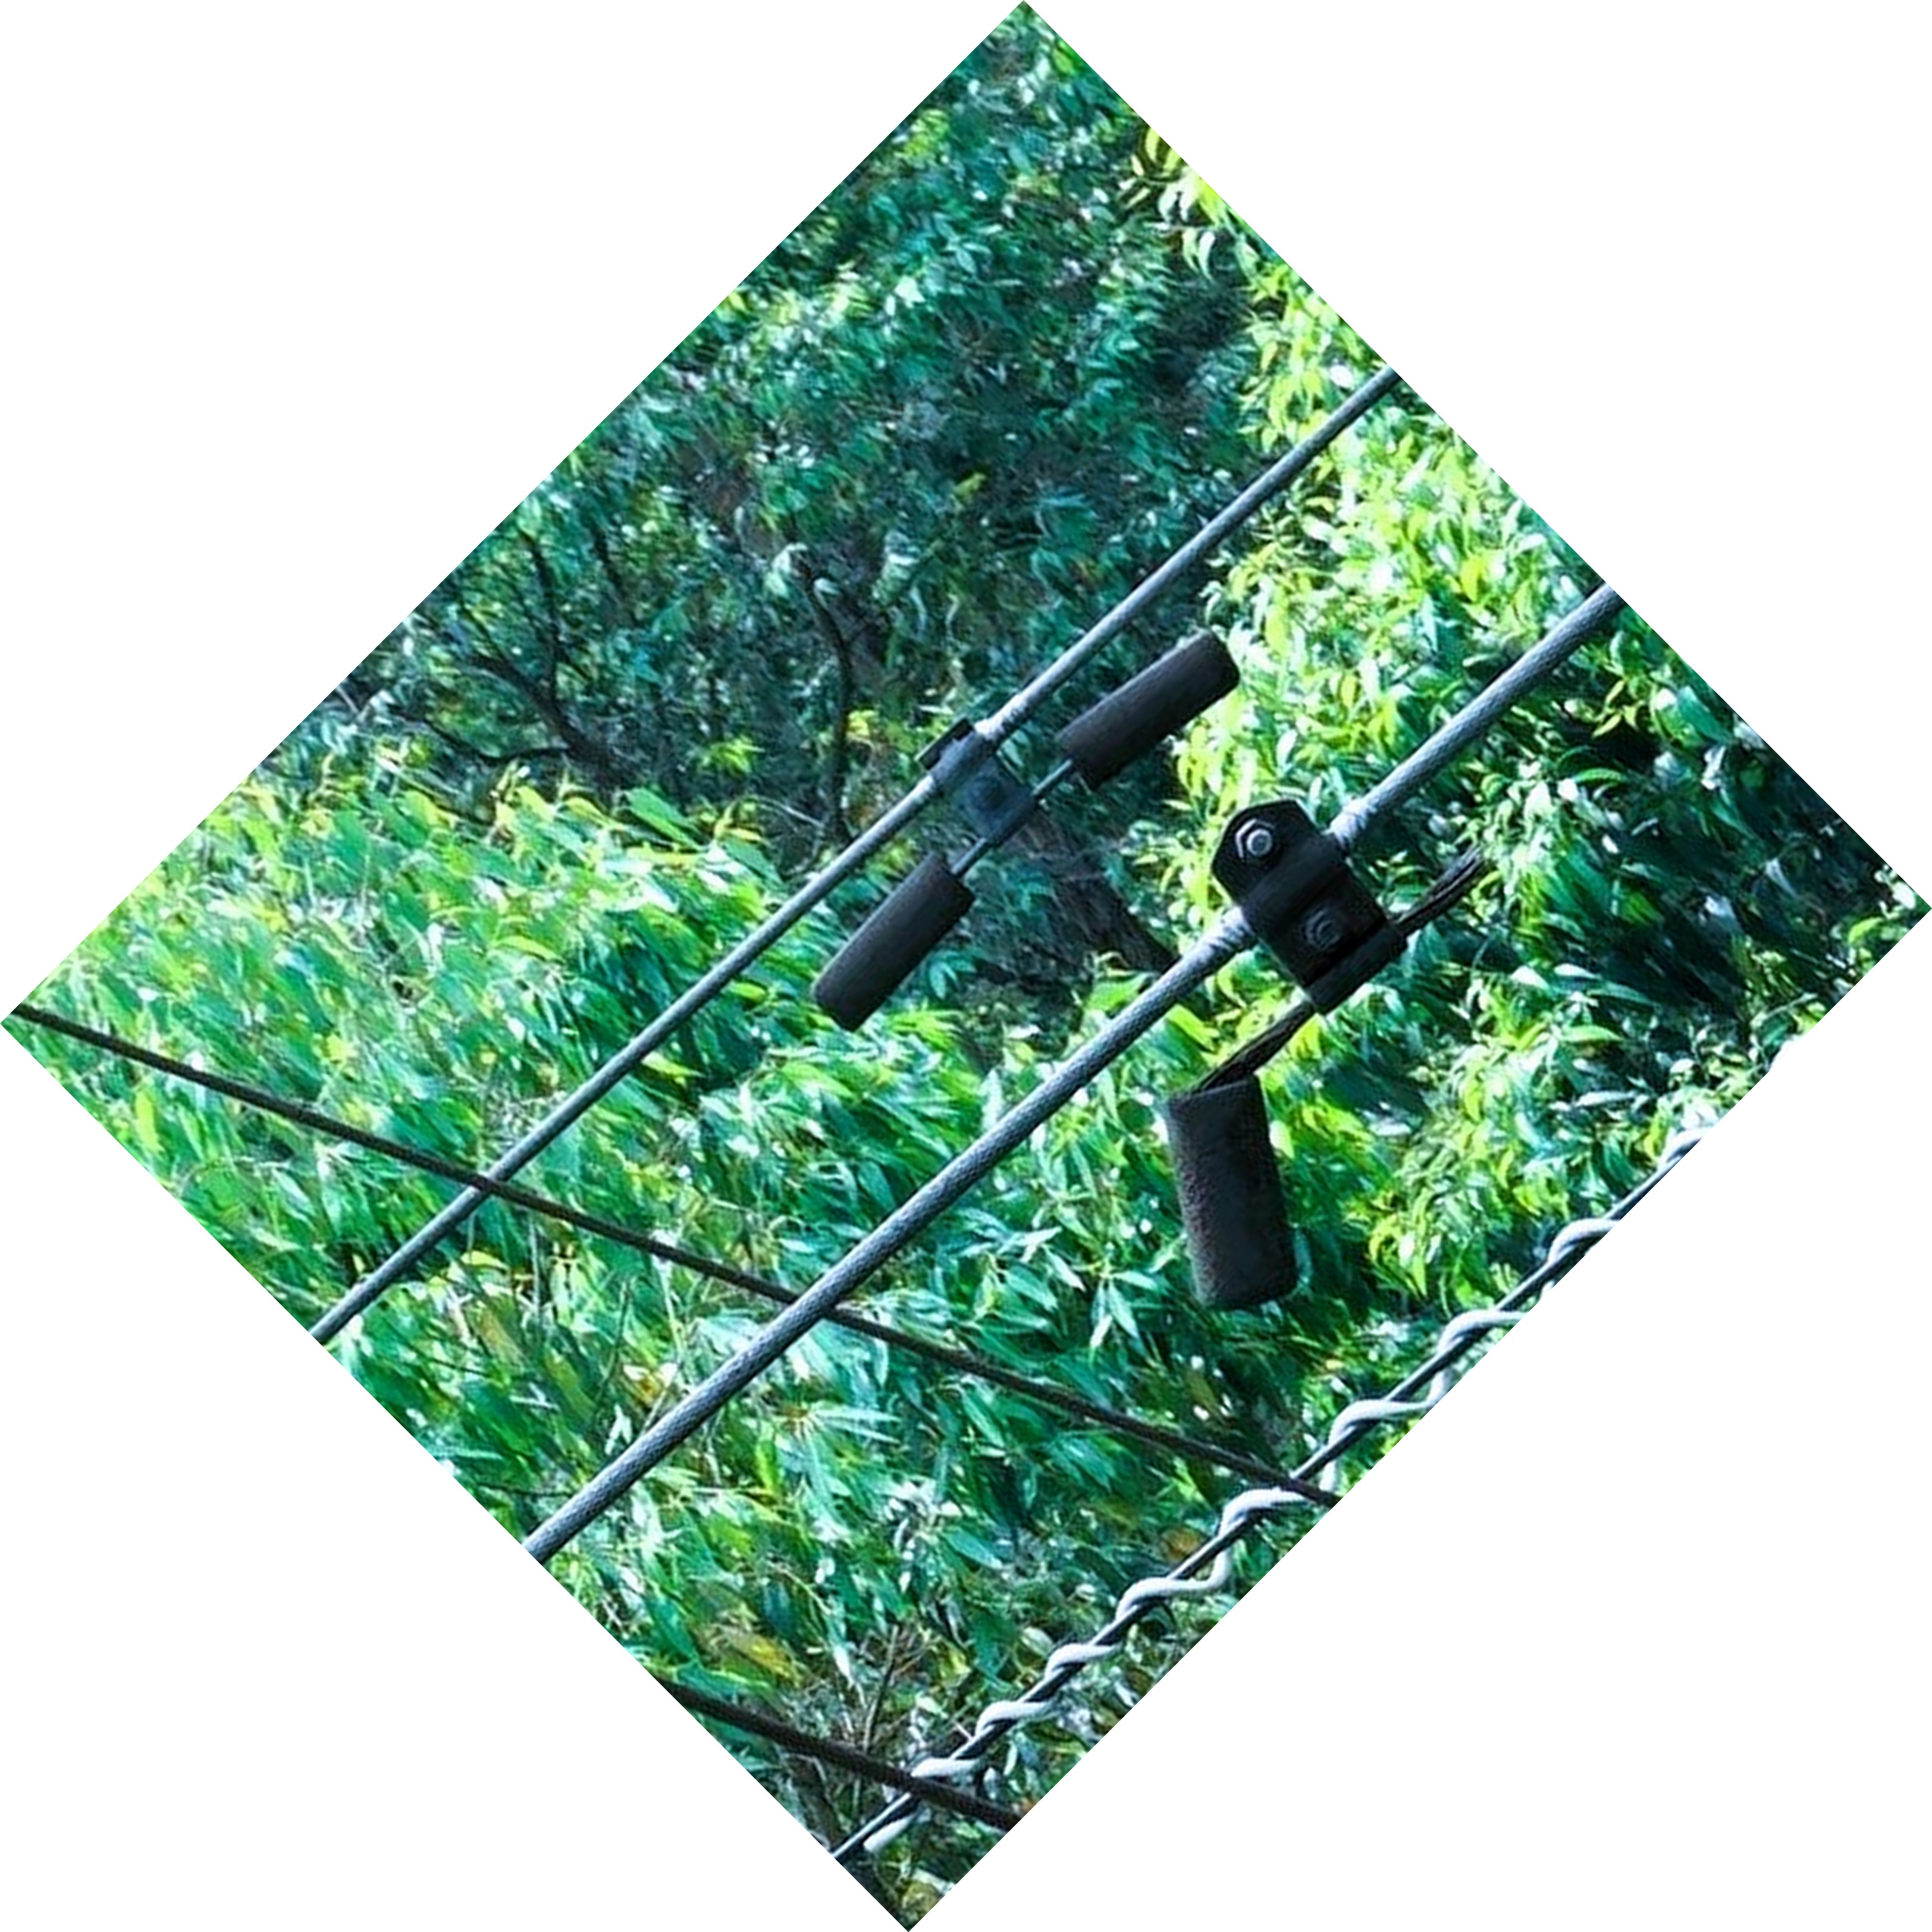Damage of shockproof hammer: (1108, 745, 1583, 1352)
